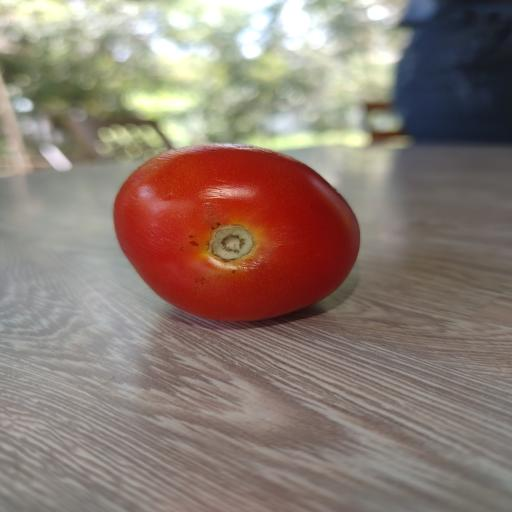overipe: (114, 144, 359, 321)
